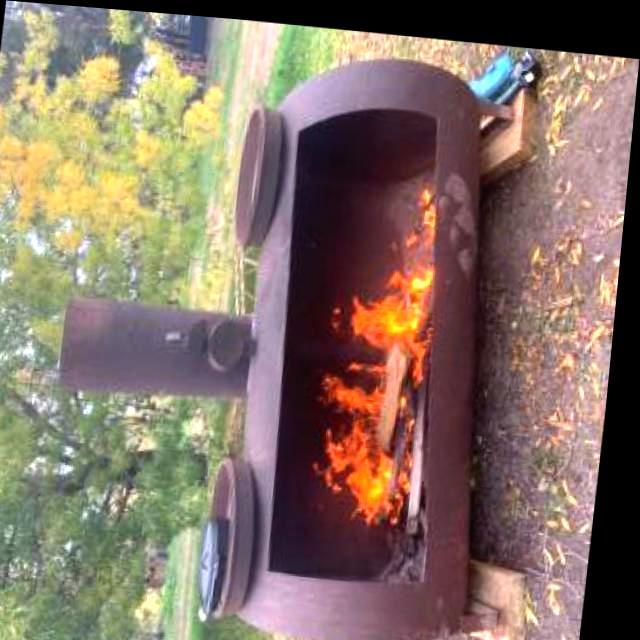fire: (315, 205, 459, 547)
